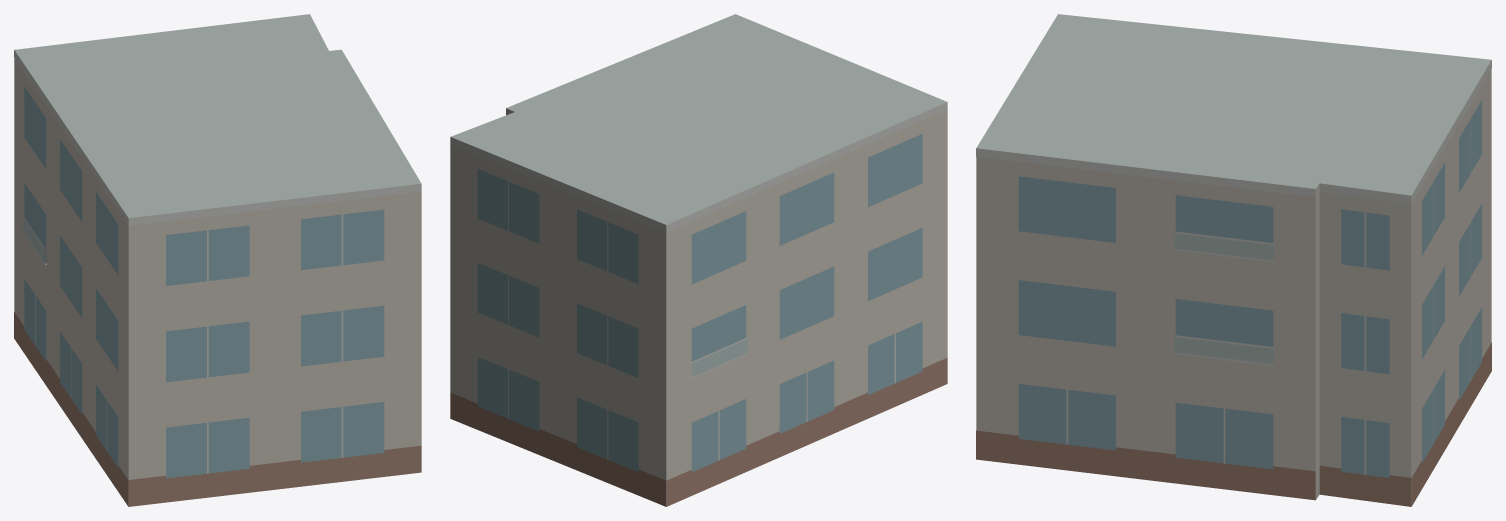
Rendered from survey-upis-32972516.glb.
3 views of the same model, side by side, from view 1: azimuth 30°, elevation 25°; view 2: azimuth 150°, elevation 25°; view 3: azimuth 270°, elevation 25° (orthographic). The views are drawn at different scales.
Parts seen in each view (by area): view 1: survey-upis-32972516.tmp; view 2: survey-upis-32972516.tmp; view 3: survey-upis-32972516.tmp.
Boxes of the visible parts, left/top/right/bottom form: survey-upis-32972516.tmp: left=14, top=14, right=421, bottom=506; survey-upis-32972516.tmp: left=450, top=14, right=947, bottom=506; survey-upis-32972516.tmp: left=976, top=14, right=1491, bottom=506.
Bounding box in the file's own units: 11.46 × 9.15 × 13.75.
